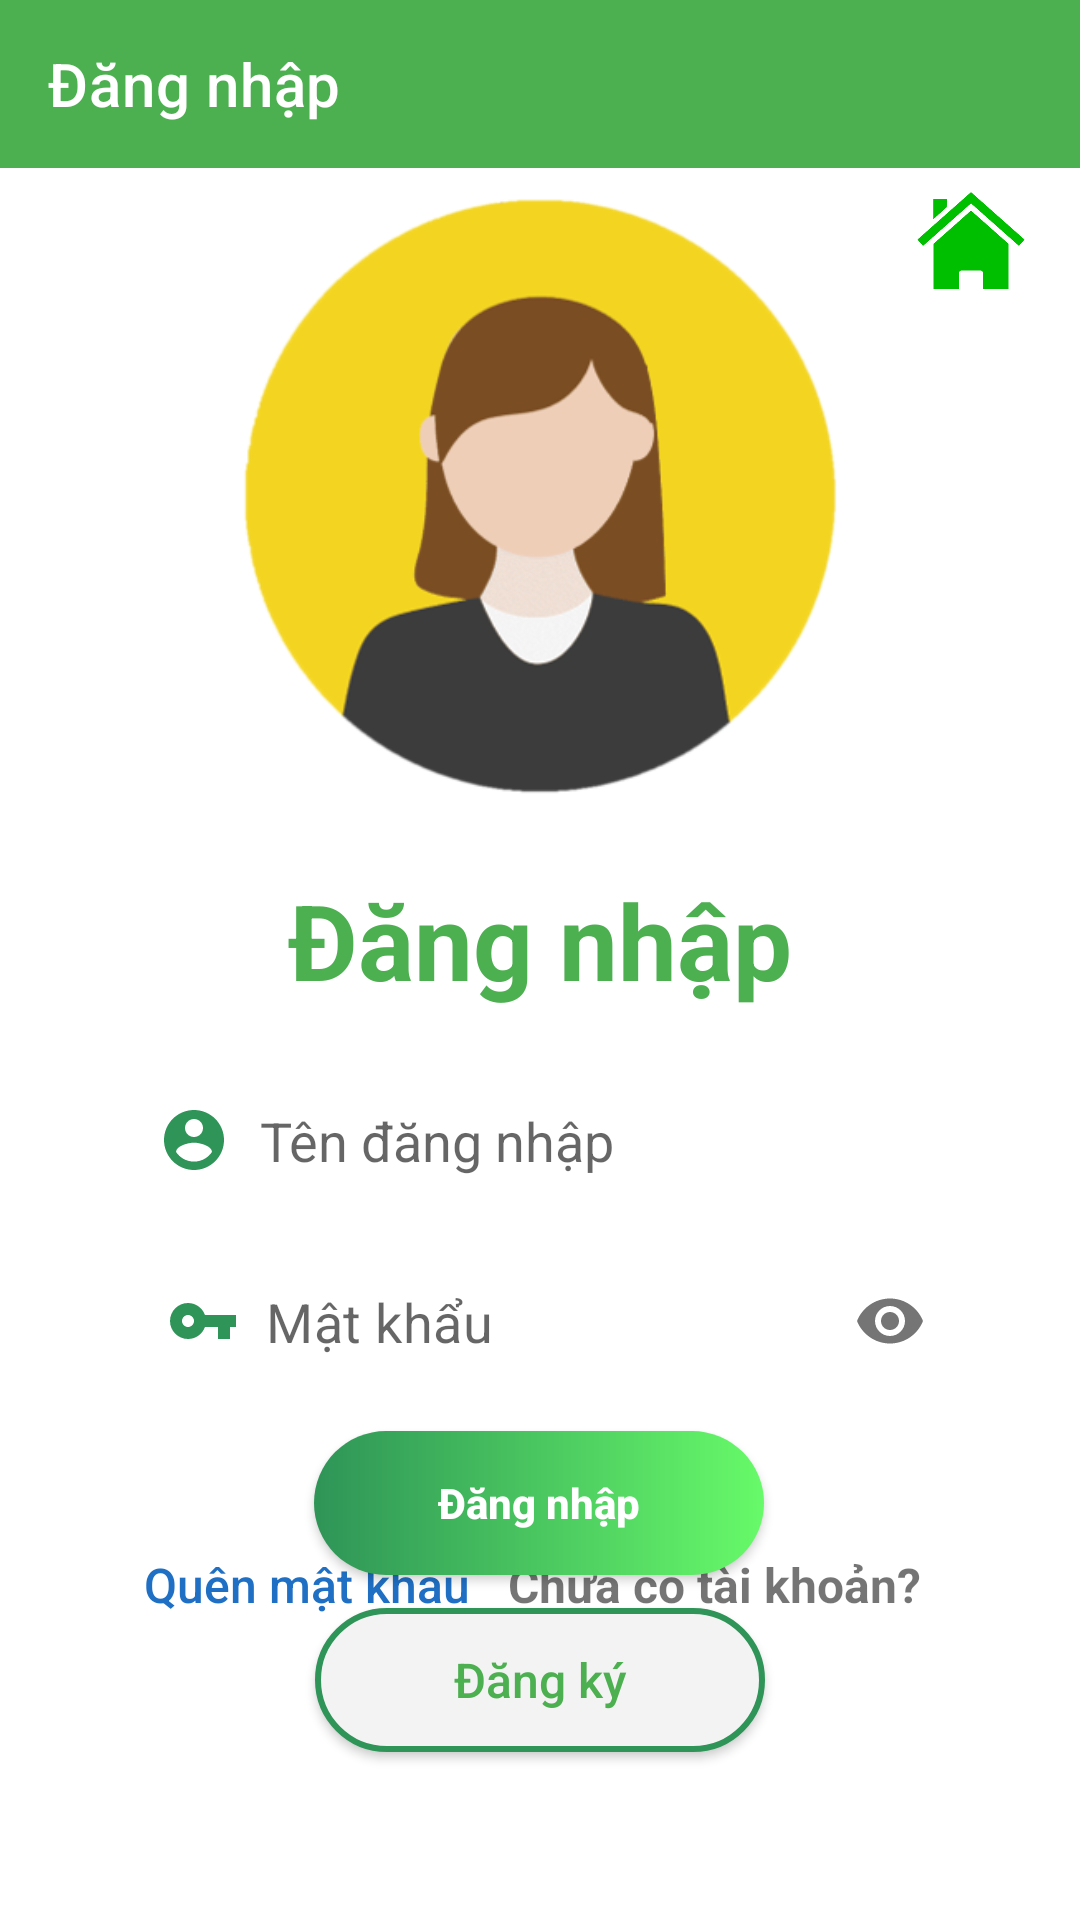

Screen size 1080 × 1920. Icon name, then its box in pixels as (x1, y1, x2, y2):
home: (917, 192, 1025, 289)
